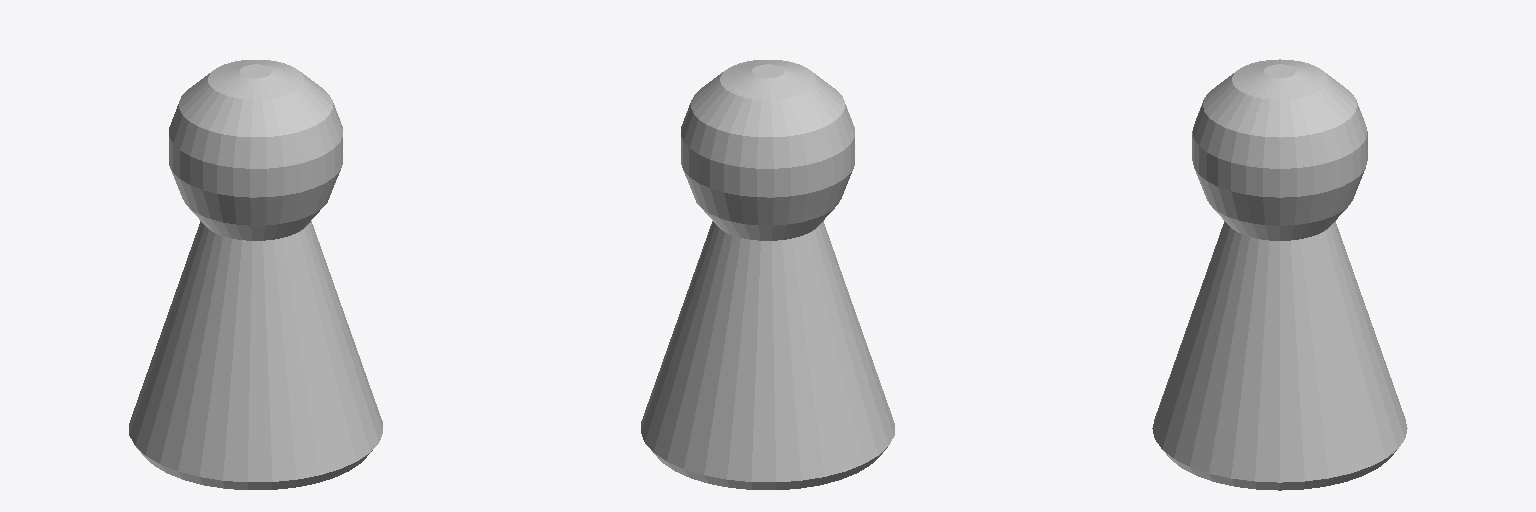
The model's file is pawn.obj.
3 views of the same model, side by side, from view 1: azimuth 30°, elevation 25°; view 2: azimuth 150°, elevation 25°; view 3: azimuth 270°, elevation 25° (orthographic).
Visible parts, largest first — view 1: Cylinder; view 2: Cylinder; view 3: Cylinder.
Part boxes in pixels (x1,y1,x2,y2): Cylinder: (129, 60, 382, 489); Cylinder: (641, 60, 894, 489); Cylinder: (1152, 59, 1407, 490).
Size of the model in its own units: 0.4001 by 0.6389 by 0.4001.